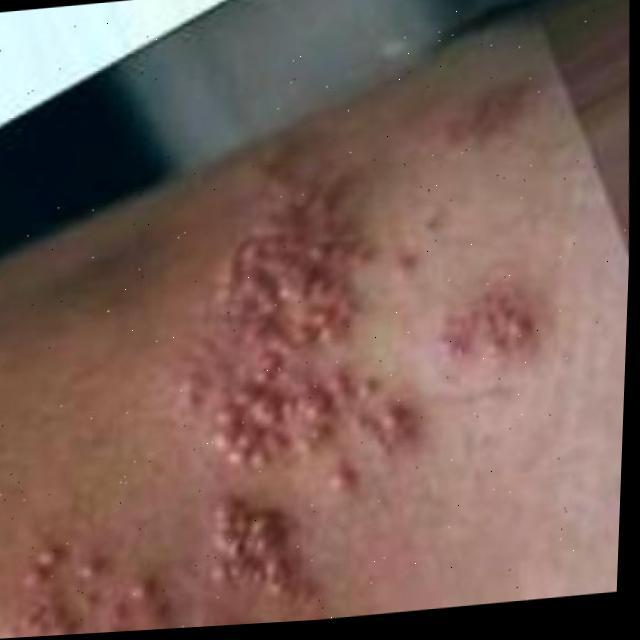Shingles: (182, 145, 415, 483), (10, 488, 317, 638), (431, 286, 531, 374), (443, 73, 542, 151)
